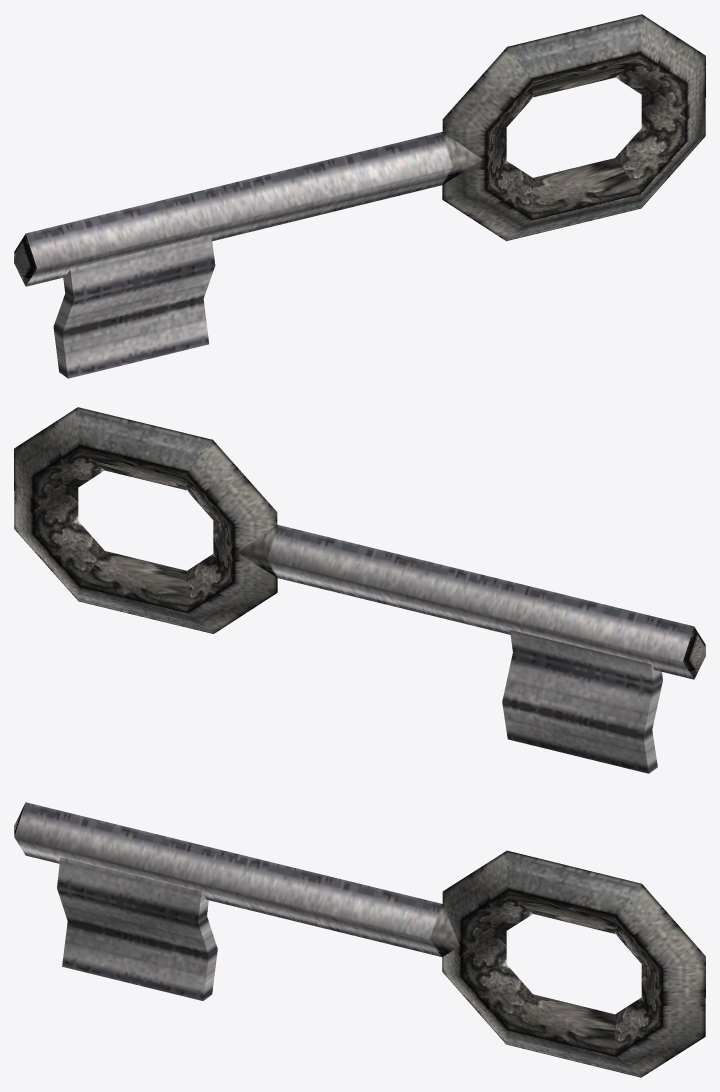
Rendered from ItKe_Key_02.fbx.
3 views of the same model, one above another, from view 1: azimuth 30°, elevation 25°; view 2: azimuth 150°, elevation 25°; view 3: azimuth 330°, elevation 25° (orthographic).
Parts seen in each view (by area): view 1: Cylinder03; view 2: Cylinder03; view 3: Cylinder03.
Boxes of the visible parts, x1=… form: Cylinder03: x1=14, y1=14, x2=705, y2=378; Cylinder03: x1=14, y1=407, x2=705, y2=773; Cylinder03: x1=14, y1=802, x2=705, y2=1077.
Size of the model in its own units: 24.51 by 7.51 by 1.56.
